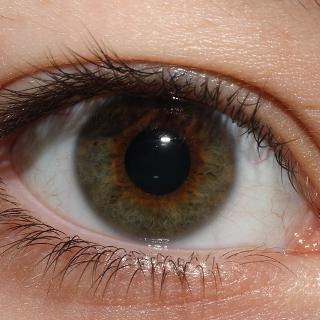pupil: (125, 129, 190, 195)
